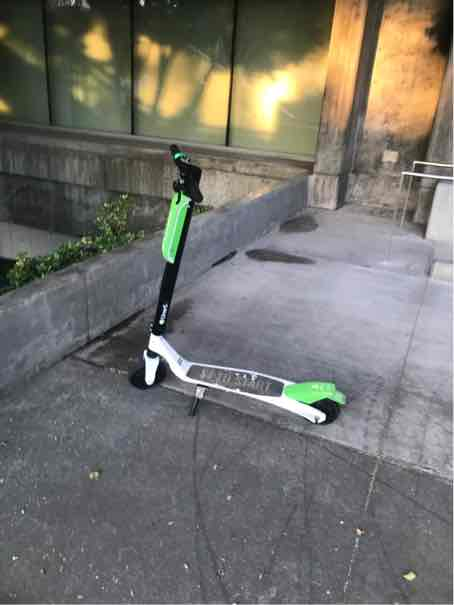scooter: (127, 135, 347, 437)
